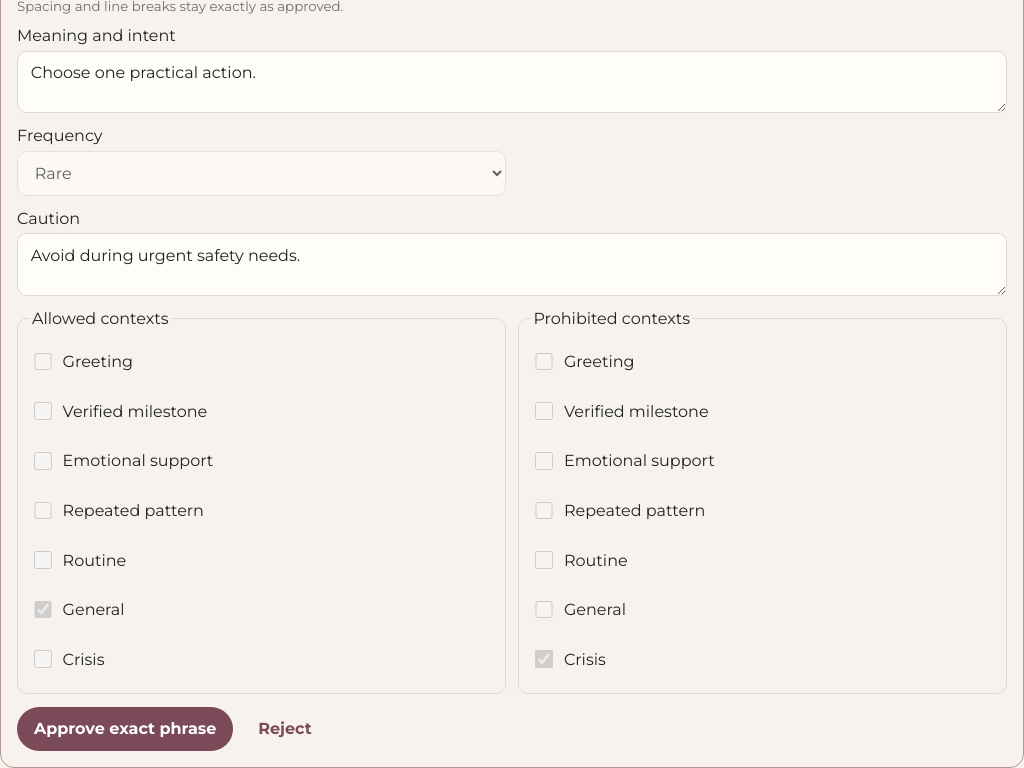
Scenario: CoachPhraseProposalPanel › requires explicit attestation, then promotes only to the selected assistant
(page scrolled)
Click the button "Approve exact phrase" at (125, 729), box [17, 707, 233, 751]
(page scrolled)
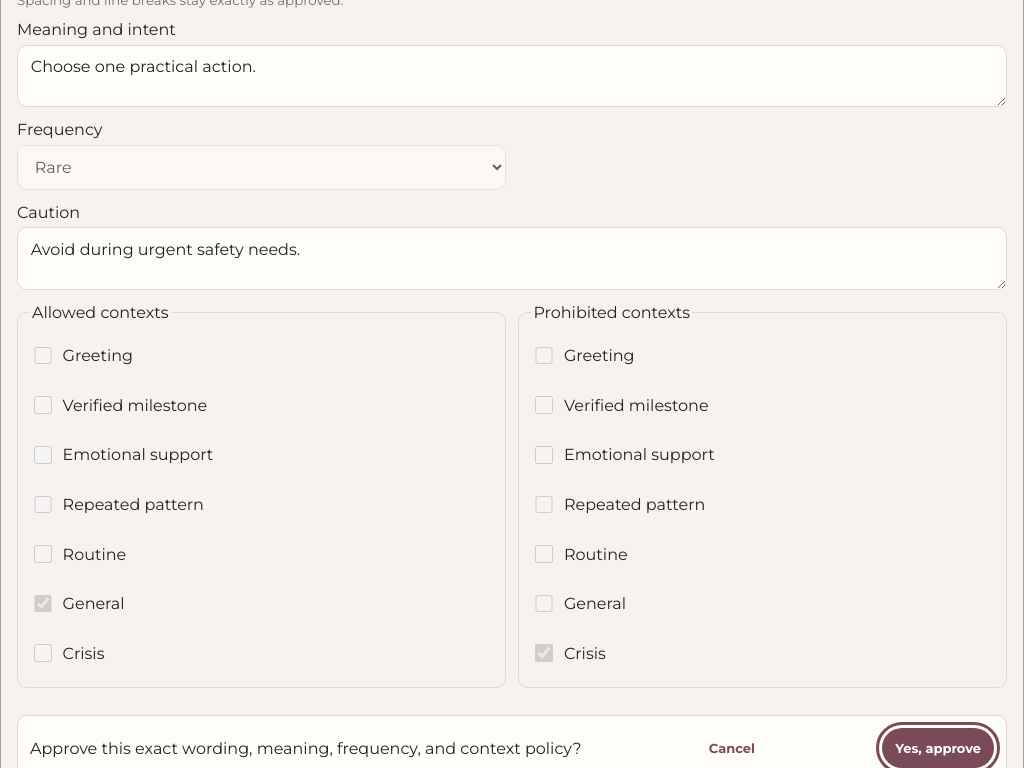
Now the text "Approve this exact wording" is shown, box [30, 739, 582, 758]
Click the button "Yes, approve" at (938, 748), box [882, 728, 994, 767]
(page scrolled)
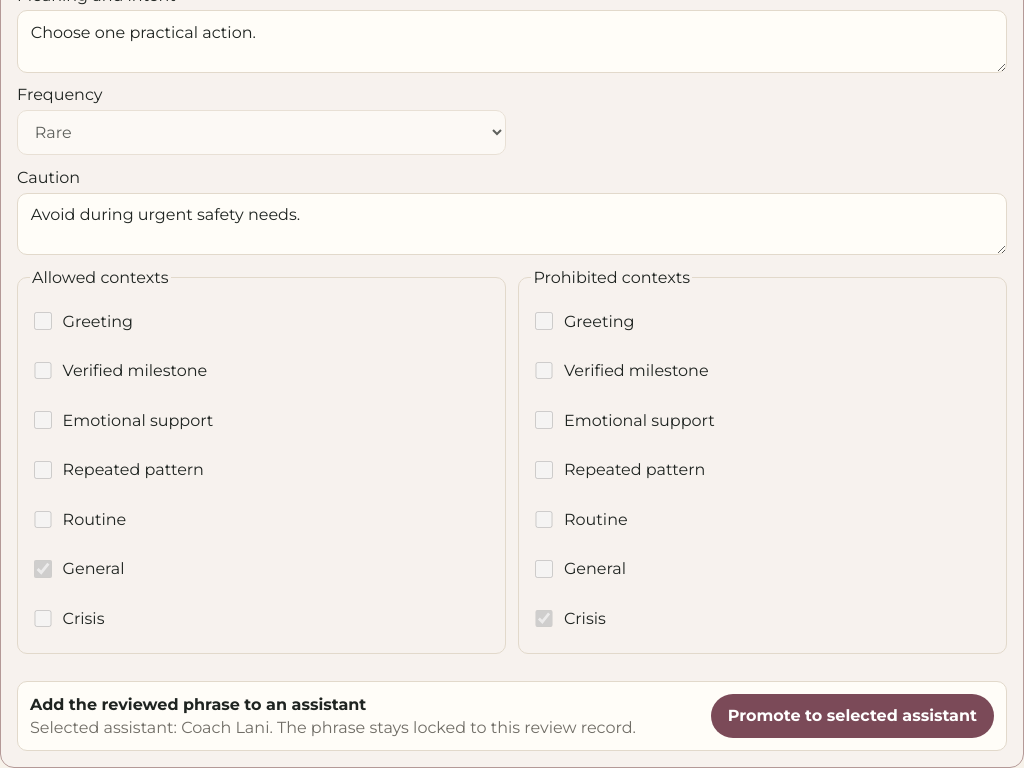
Click the button "Promote to selected assistant" at (852, 716), box [711, 694, 994, 738]
(page scrolled)
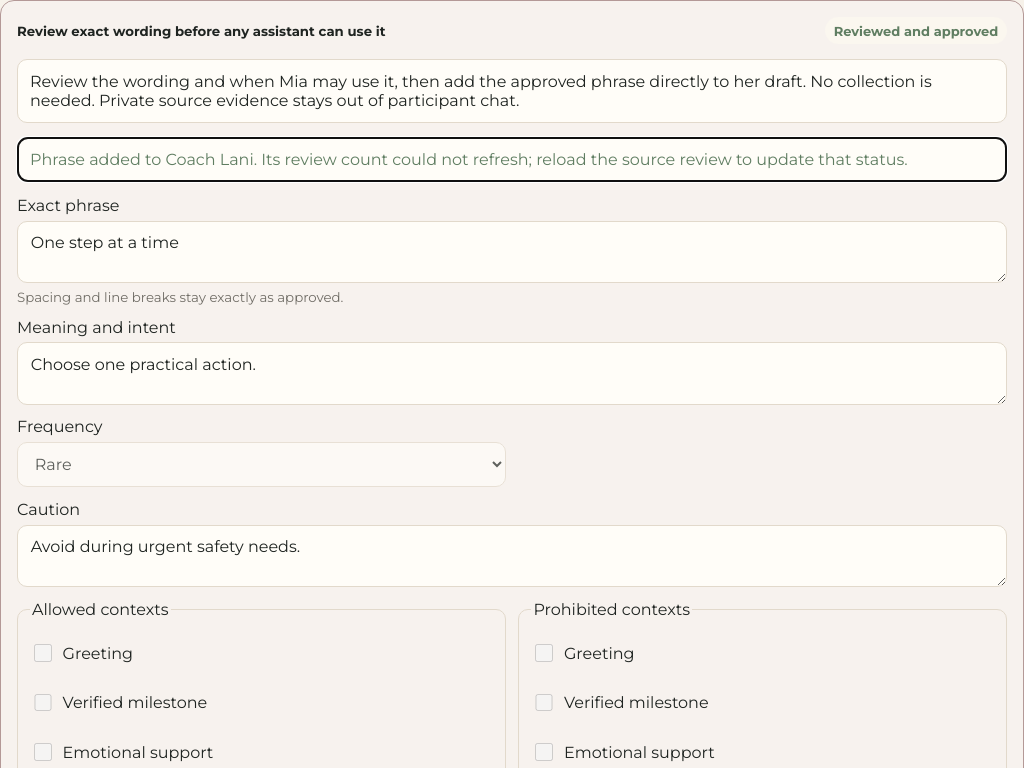
Now the text "Phrase added to Coach Lani. Its review count could not refresh" is shown, box [30, 150, 908, 169]
